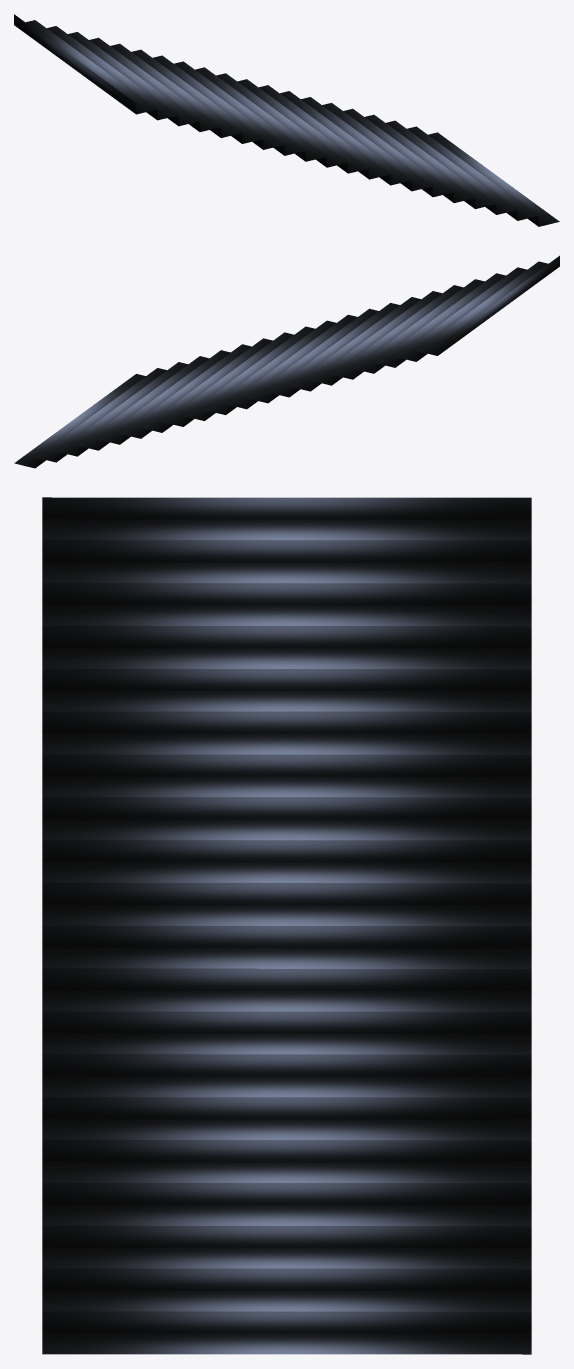
File: Steps05.fbx
The picture shows the model from 3 angles, top to bottom: view 1: azimuth 30°, elevation 25°; view 2: azimuth 150°, elevation 25°; view 3: azimuth 270°, elevation 25°; orthographic projection. The views are drawn at different scales.
Visible parts, largest first — view 1: Steps01; view 2: Steps01; view 3: Steps01.
Boxes of the visible parts, x1,y1,x2,y2 form: Steps01: (14,14,559,226); Steps01: (14,255,559,468); Steps01: (42,497,531,1354).
Size of what is drawn, in the model's own units: 40 by 20.01 by 20.01.
